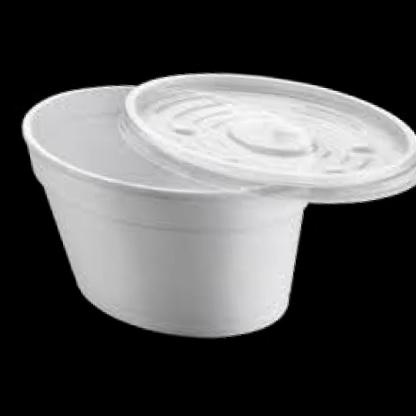trash: (23, 74, 415, 336)
